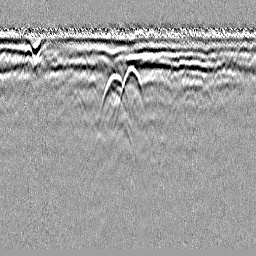cavity: (114, 64, 146, 124)
